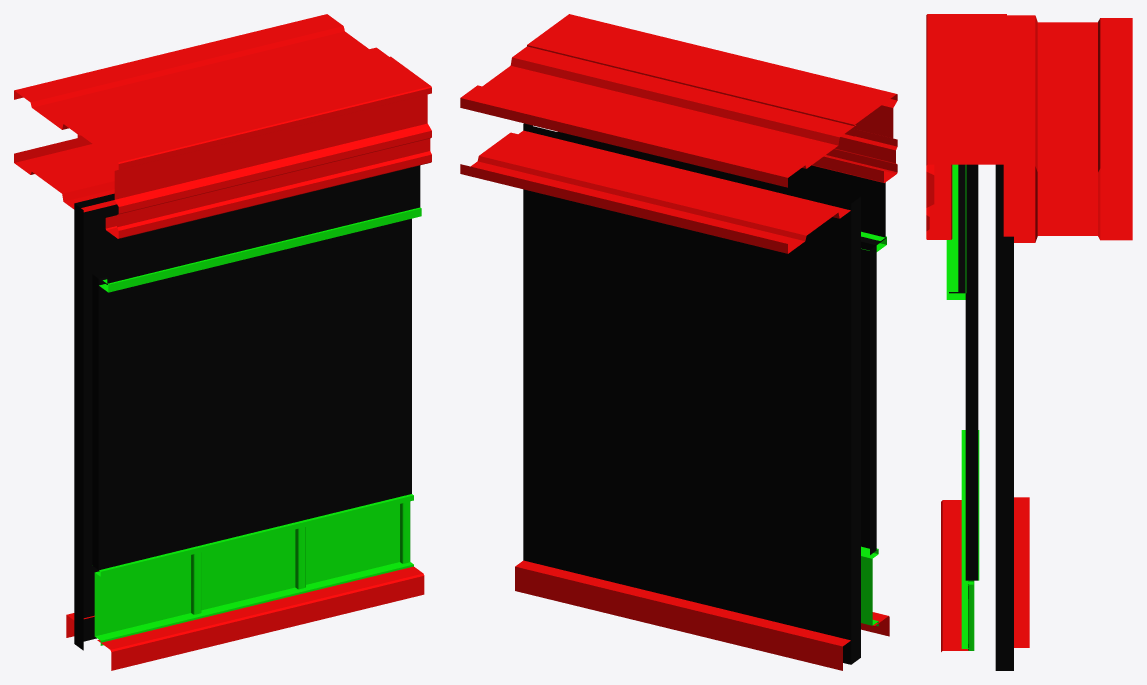
The model's file is SM_Shop_Wall_T1.FBX.
3 views of the same model, side by side, from view 1: azimuth 30°, elevation 25°; view 2: azimuth 150°, elevation 25°; view 3: azimuth 270°, elevation 25° (orthographic). The views are drawn at different scales.
Visible parts, largest first — view 1: SM_Shop_Wall_T1; view 2: SM_Shop_Wall_T1; view 3: SM_Shop_Wall_T1.
Boxes of the visible parts, <box> form: SM_Shop_Wall_T1: <box>14,14,431,670</box>; SM_Shop_Wall_T1: <box>460,14,897,670</box>; SM_Shop_Wall_T1: <box>926,14,1132,670</box>.
Bounding box in the file's own units: 300 × 174 × 470.
